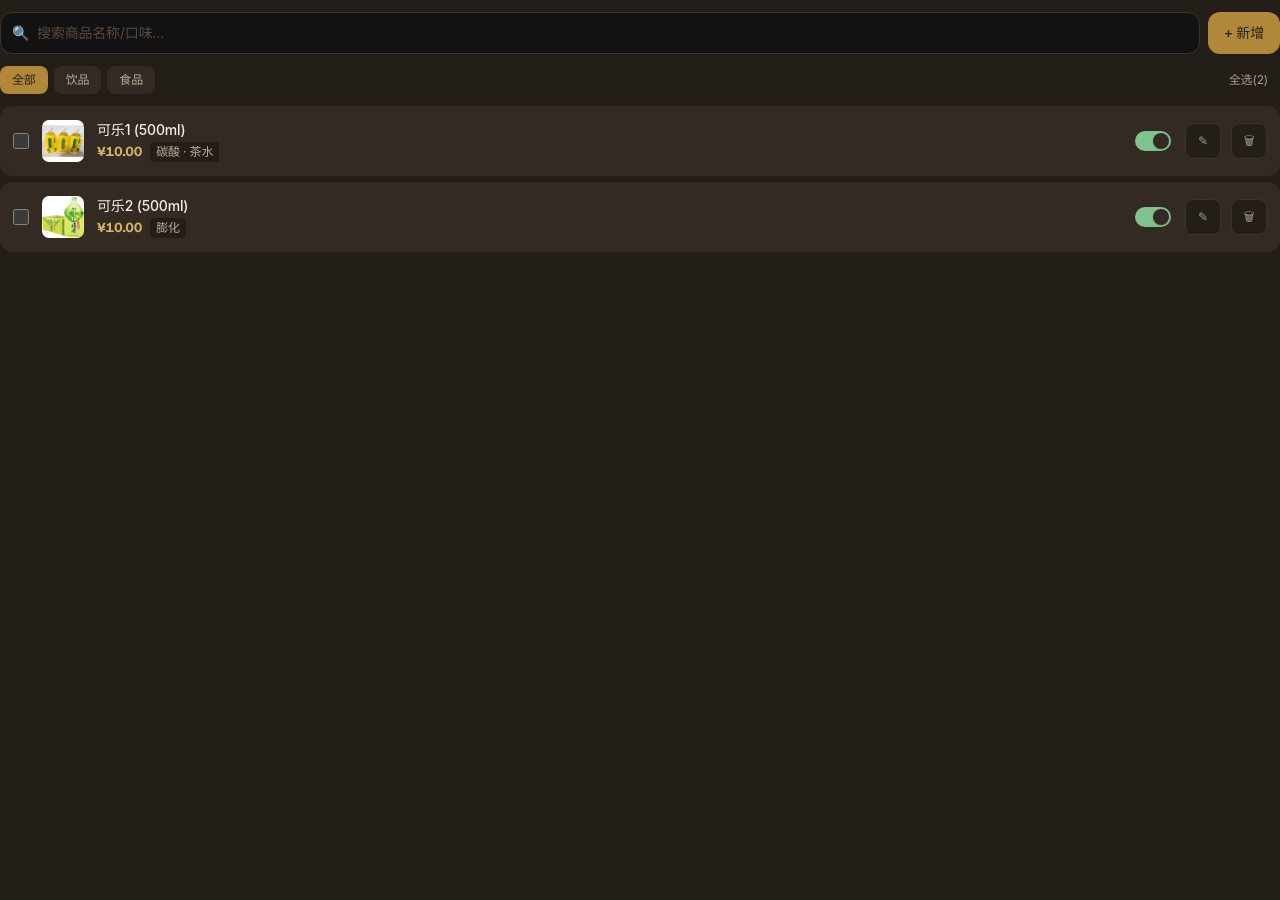
Test: 批量上下架与删除 › 整体失败（code!=0）→ error 播报并展示服务端 message
Click the checkbox named "选择 可乐1" at (21,141), box [13, 133, 29, 149]
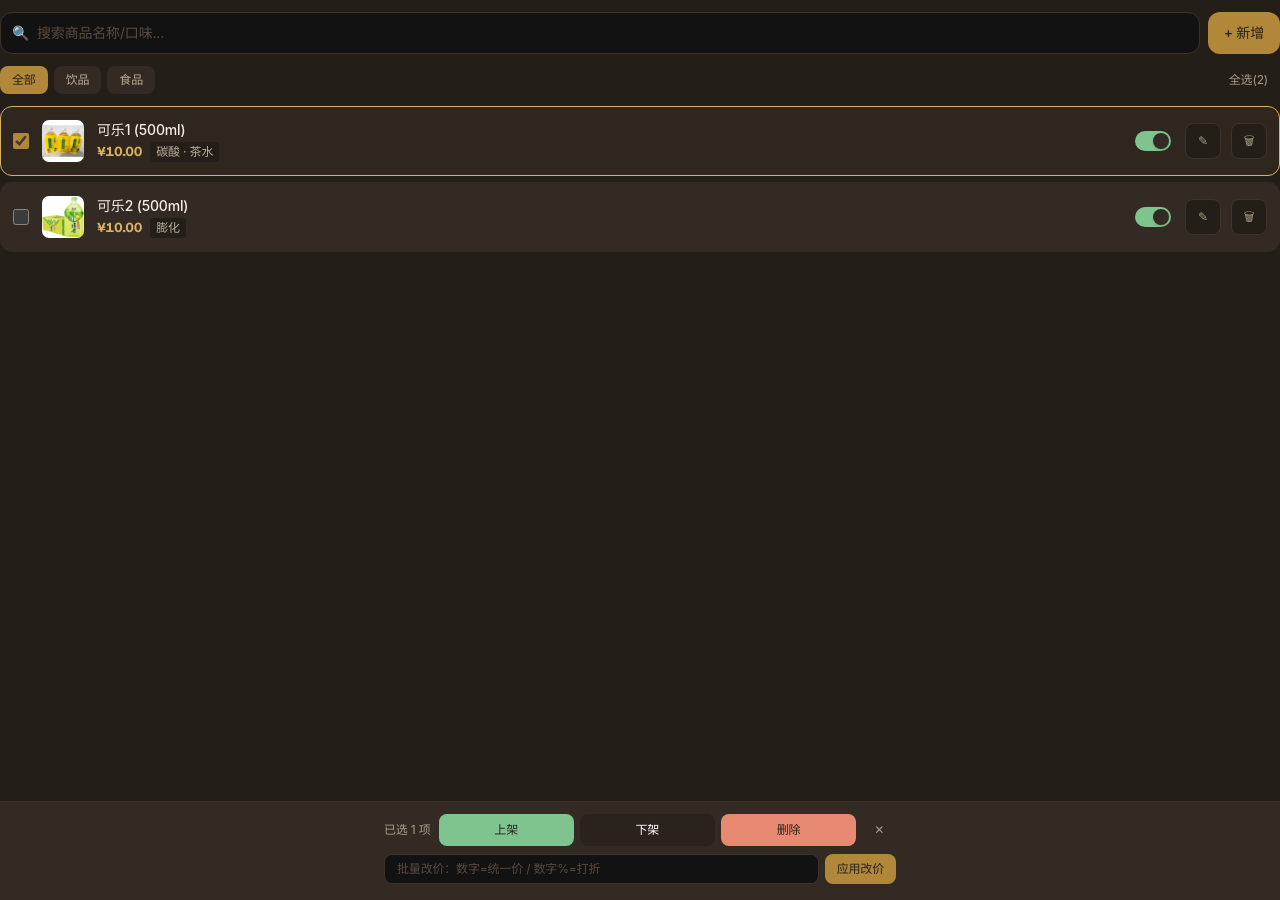
Click the button "下架" at (647,830), box [580, 814, 715, 846]
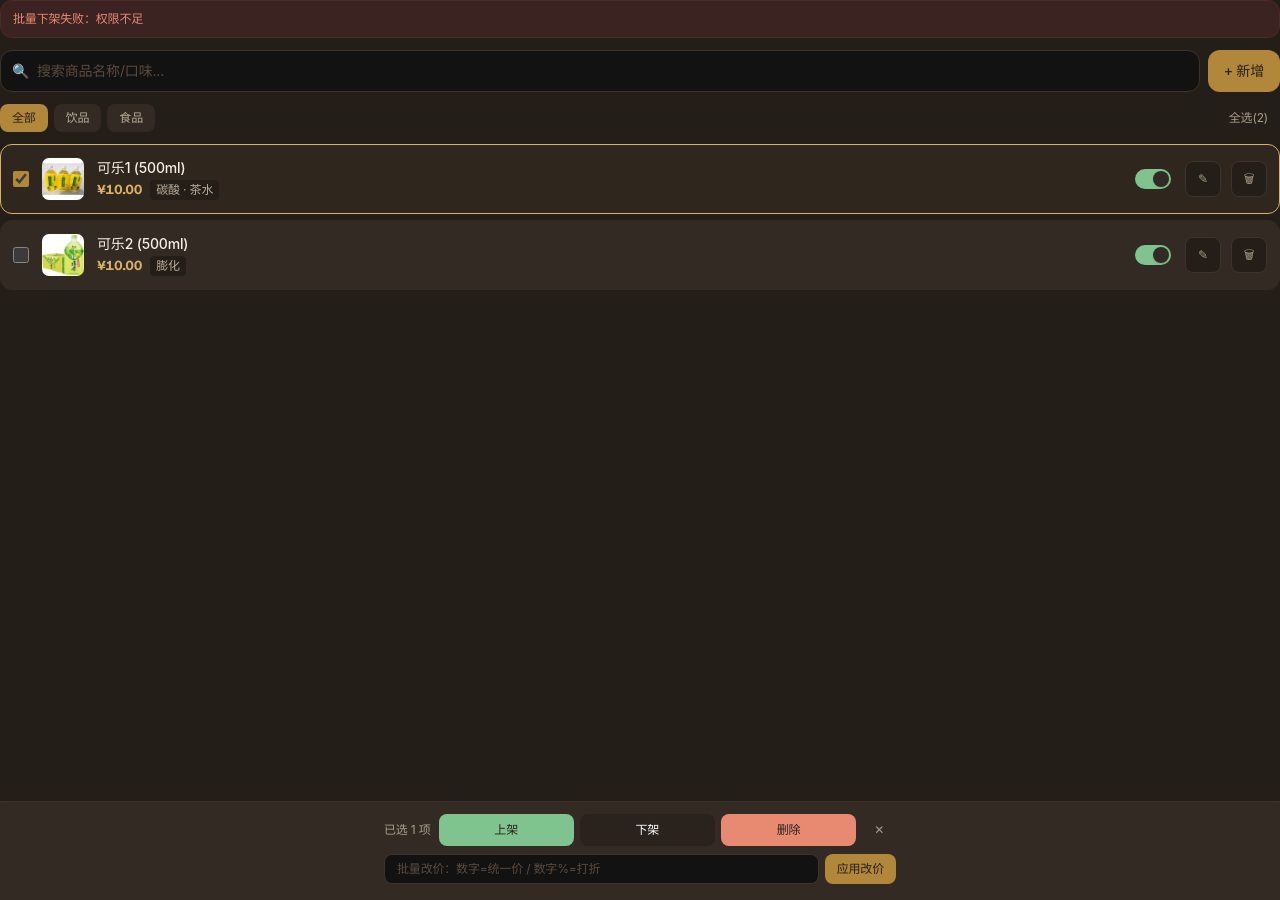
Check: the message reads "批量下架失败：权限不足", box [13, 11, 143, 26]
